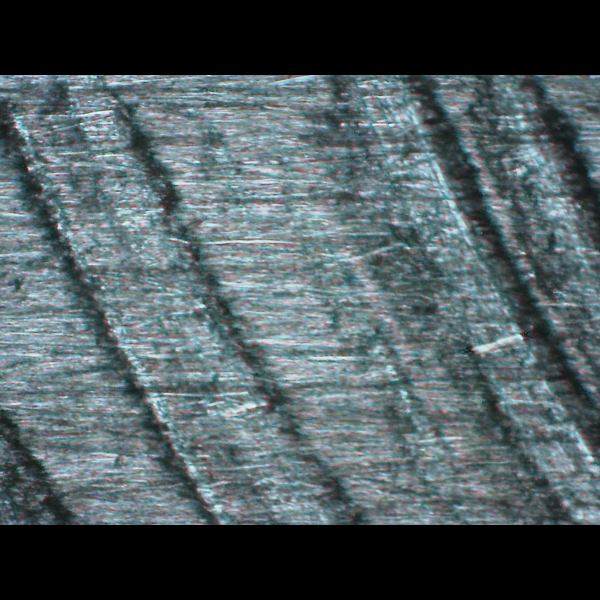d: (0, 75, 367, 519), (341, 79, 595, 524)
